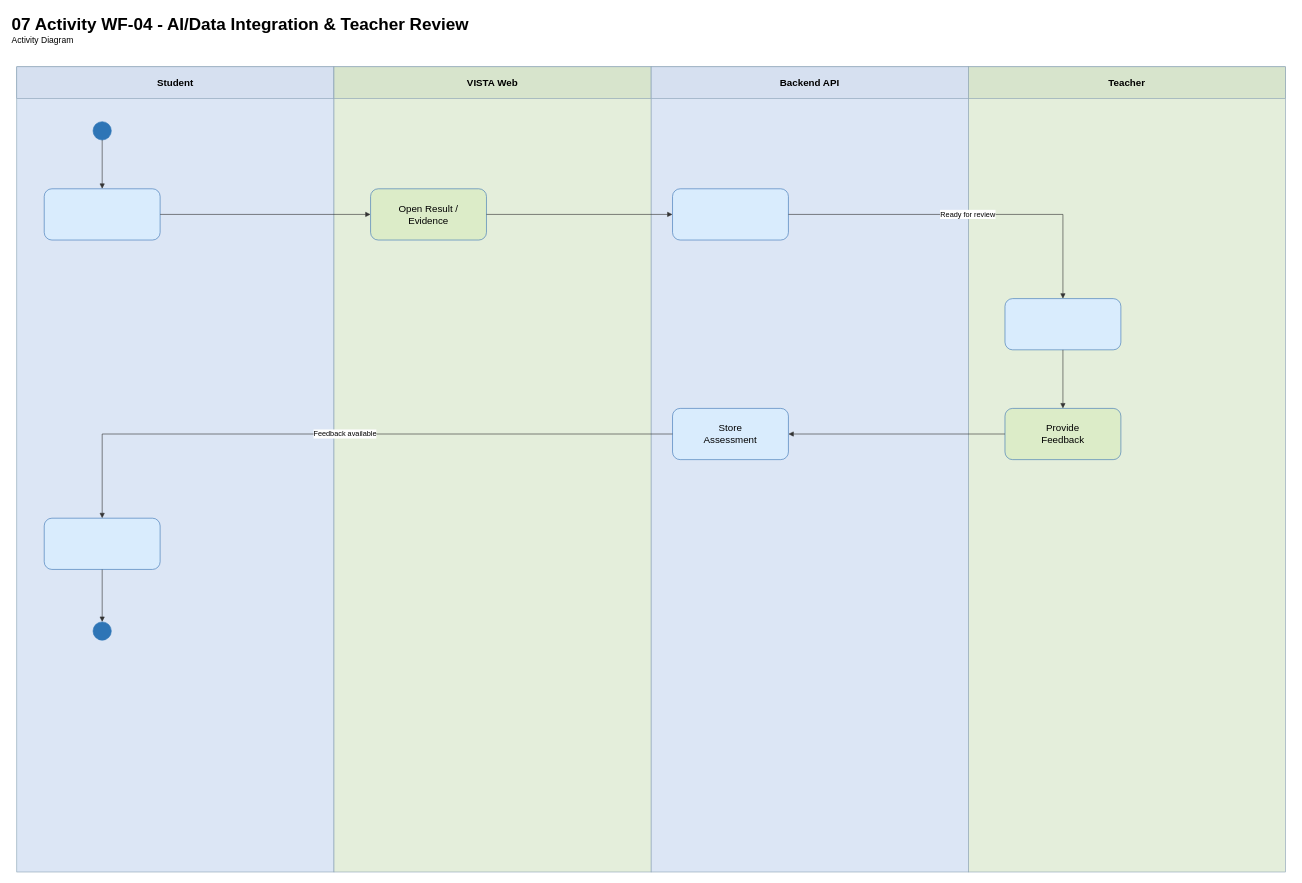
The diagram is 1302 pixels wide and 883 high, and some of its shapes have lost their labels. The centre of each missing label's shape, as x and y in pixels:
Complete Experiment: point (102, 214)
Link Evidence + Model Metadata: point (730, 214)
Review Evidence: point (1062, 324)
View Feedback: point (102, 543)
